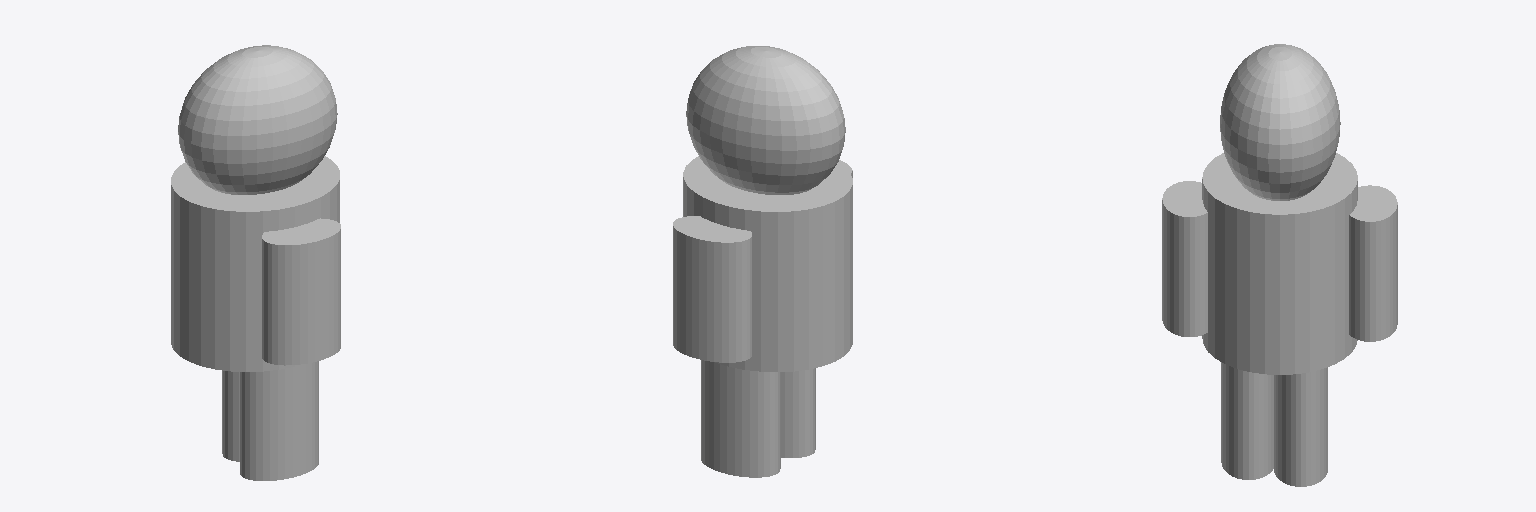
Rendered from player_Blue.obj.
3 renders of one model, left to right at view 1: azimuth 30°, elevation 25°; view 2: azimuth 150°, elevation 25°; view 3: azimuth 270°, elevation 25°, orthographic.
Parts seen in each view (by area): view 1: Cylinder.003_Cylinder.004, Sphere_Sphere.002, Cylinder.005_Cylinder.006, Cylinder.004_Cylinder.005, Cylinder_Cylinder.001, Cylinder.001_Cylinder.002; view 2: Cylinder.003_Cylinder.004, Sphere_Sphere.002, Cylinder.002_Cylinder.003, Cylinder_Cylinder.001, Cylinder.004_Cylinder.005, Cylinder.001_Cylinder.002; view 3: Cylinder.003_Cylinder.004, Sphere_Sphere.002, Cylinder.002_Cylinder.003, Cylinder.005_Cylinder.006, Cylinder.004_Cylinder.005, Cylinder_Cylinder.001, Cylinder.001_Cylinder.002.
Part boxes in pixels (bbox=[...]): Cylinder.003_Cylinder.004: bbox=[171, 156, 339, 371]; Sphere_Sphere.002: bbox=[178, 45, 337, 194]; Cylinder.005_Cylinder.006: bbox=[262, 218, 340, 365]; Cylinder.004_Cylinder.005: bbox=[240, 361, 318, 480]; Cylinder_Cylinder.001: bbox=[222, 370, 239, 459]; Cylinder.001_Cylinder.002: bbox=[222, 371, 239, 461]; Cylinder.003_Cylinder.004: bbox=[683, 156, 852, 371]; Sphere_Sphere.002: bbox=[686, 46, 845, 194]; Cylinder.002_Cylinder.003: bbox=[673, 216, 751, 362]; Cylinder_Cylinder.001: bbox=[701, 360, 780, 474]; Cylinder.004_Cylinder.005: bbox=[781, 368, 815, 457]; Cylinder.001_Cylinder.002: bbox=[701, 361, 780, 477]; Cylinder.003_Cylinder.004: bbox=[1202, 153, 1357, 374]; Sphere_Sphere.002: bbox=[1220, 44, 1340, 200]; Cylinder.002_Cylinder.003: bbox=[1349, 185, 1397, 341]; Cylinder.005_Cylinder.006: bbox=[1162, 181, 1207, 336]; Cylinder.004_Cylinder.005: bbox=[1221, 362, 1273, 479]; Cylinder_Cylinder.001: bbox=[1274, 368, 1327, 484]; Cylinder.001_Cylinder.002: bbox=[1274, 367, 1327, 486].
Bounding box in the file's own units: 0.2768 × 0.7146 × 0.3726.